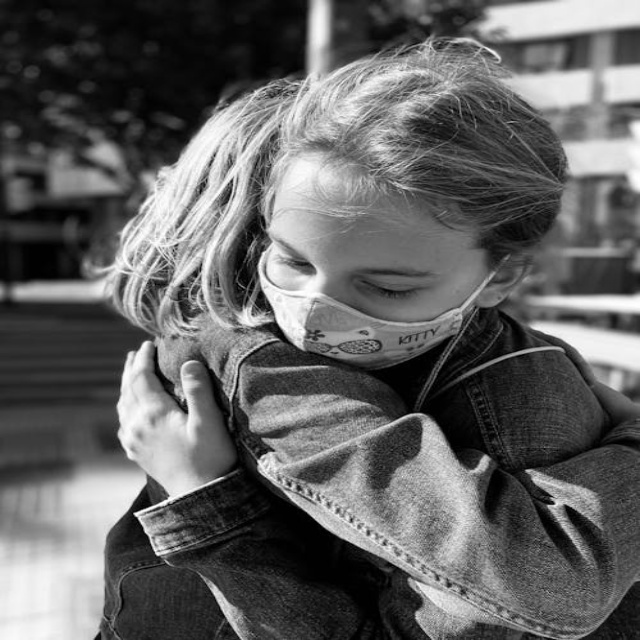Mascara: (258, 247, 499, 368)
Sin_gafas: (261, 225, 470, 302)
Sin_guantes: (101, 328, 253, 486)
